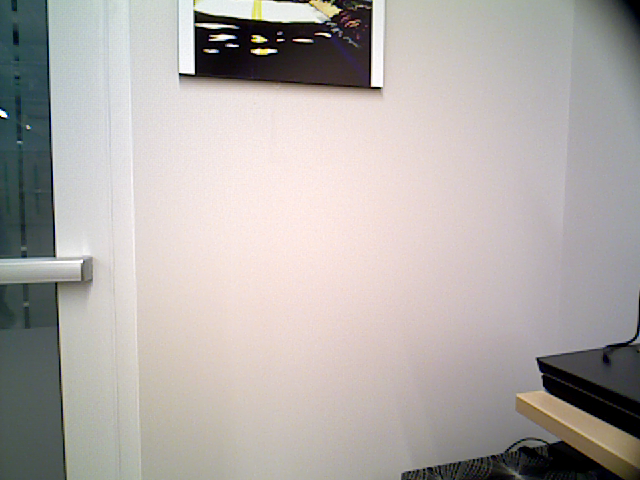painting3: (180, 1, 383, 87)
